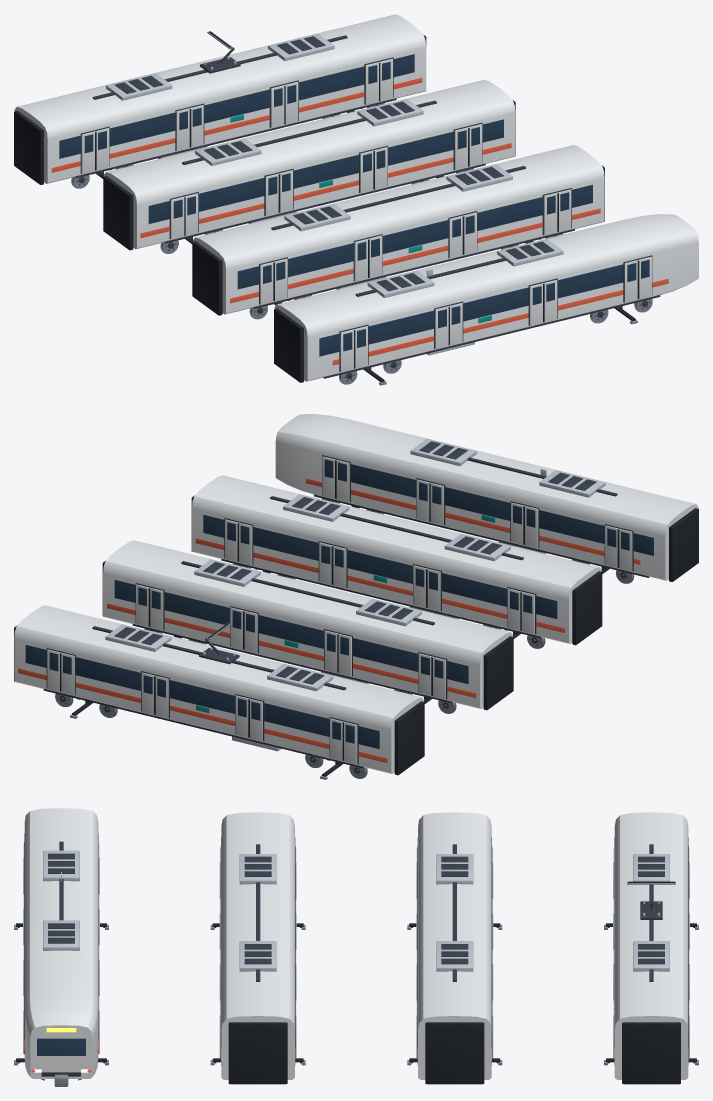
File: trains.glb
3 views of the same model, one above another, from view 1: azimuth 30°, elevation 25°; view 2: azimuth 150°, elevation 25°; view 3: azimuth 270°, elevation 25° (orthographic). The views are drawn at different scales.
Visible parts, largest first — view 1: Cab_Body, Trailer_Body, Motor_Body, MotorPanto_Body, Cab_Door_R4_a, Motor_Door_R2_b, Motor_Door_R3_a, MotorPanto_Door_R1_b, MotorPanto_Door_R2_a, Cab_Door_R1_a, Cab_Door_R2_a, MotorPanto_Door_R4_a (+5 smaller); view 2: Cab_Body, Motor_Body, Trailer_Body, MotorPanto_Body, Cab_Door_L2_a, Motor_Door_L2_a, Trailer_Door_L3_a, Cab_Door_L1_a, Motor_Door_L3_a, Motor_Door_L4_a, MotorPanto_Door_L1_a, MotorPanto_Door_L4_a (+23 smaller); view 3: Motor_Body, Trailer_Body, Cab_Body, MotorPanto_Body.
Part boxes in pixels (x1,y1,x2,y2): Cab_Body: (274,214,698,382); Trailer_Body: (103,79,515,250); Motor_Body: (192,145,604,315); MotorPanto_Body: (14,14,426,184); Cab_Door_R4_a: (624,260,638,302); Motor_Door_R2_b: (368,235,382,278); Motor_Door_R3_a: (449,215,463,258); MotorPanto_Door_R1_b: (95,128,109,170); MotorPanto_Door_R2_a: (176,108,190,150); Cab_Door_R1_a: (340,329,354,371); Cab_Door_R2_a: (435,306,449,348); MotorPanto_Door_R4_a: (365,62,379,104); Cab_Body: (275,414,698,581); Motor_Body: (191,475,602,645); Trailer_Body: (102,540,513,710); MotorPanto_Body: (14,605,424,775); Cab_Door_L2_a: (524,506,538,548); Motor_Door_L2_a: (426,568,440,611); Trailer_Door_L3_a: (243,610,257,653); Cab_Door_L1_a: (618,528,632,571); Motor_Door_L3_a: (332,545,346,588); Motor_Door_L4_a: (238,522,252,565); MotorPanto_Door_L1_a: (343,721,357,764); MotorPanto_Door_L4_a: (60,652,74,695); Motor_Body: (220,812,295,1084); Trailer_Body: (417,812,492,1084); Cab_Body: (24,808,98,1086); MotorPanto_Body: (614,812,688,1084).
Size of the model in its own units: 20.98 by 5.32 by 27.86.
